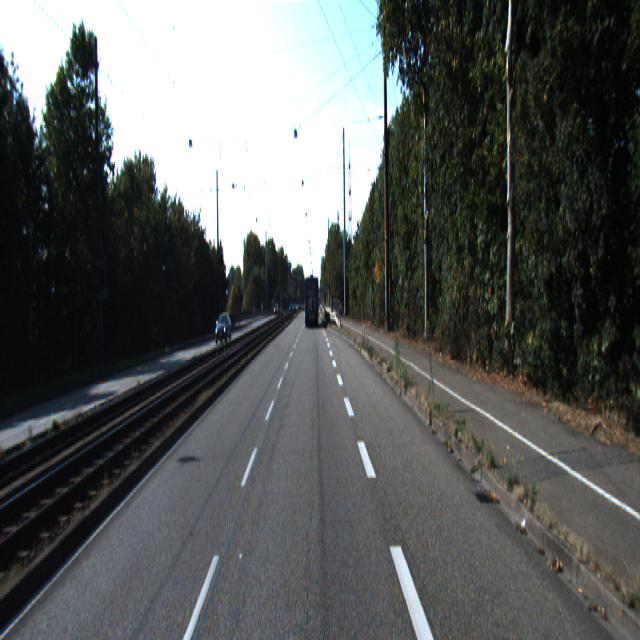Car: (304, 276, 320, 328), (214, 315, 232, 345)
